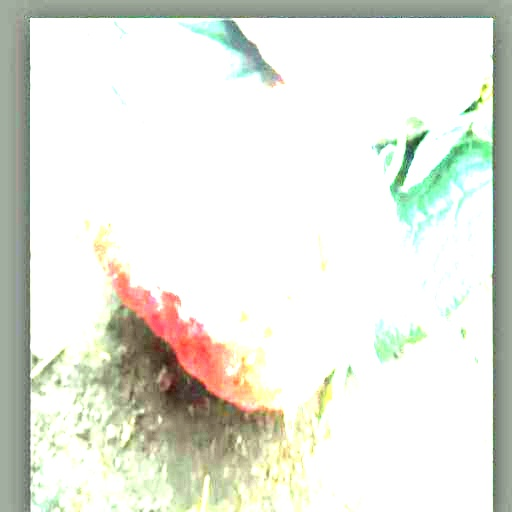Gray Mold: (79, 86, 373, 379), (230, 18, 494, 147)
